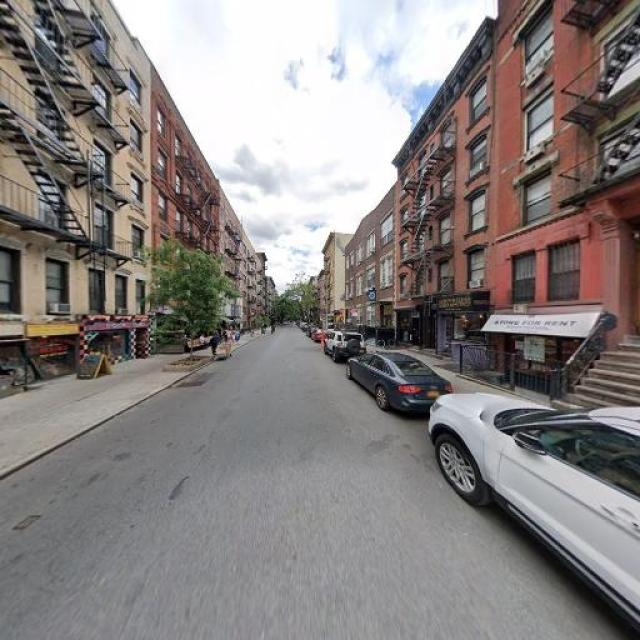Building: (1, 1, 152, 379), (497, 1, 640, 395), (398, 24, 492, 363), (155, 75, 218, 347), (352, 188, 395, 342)
